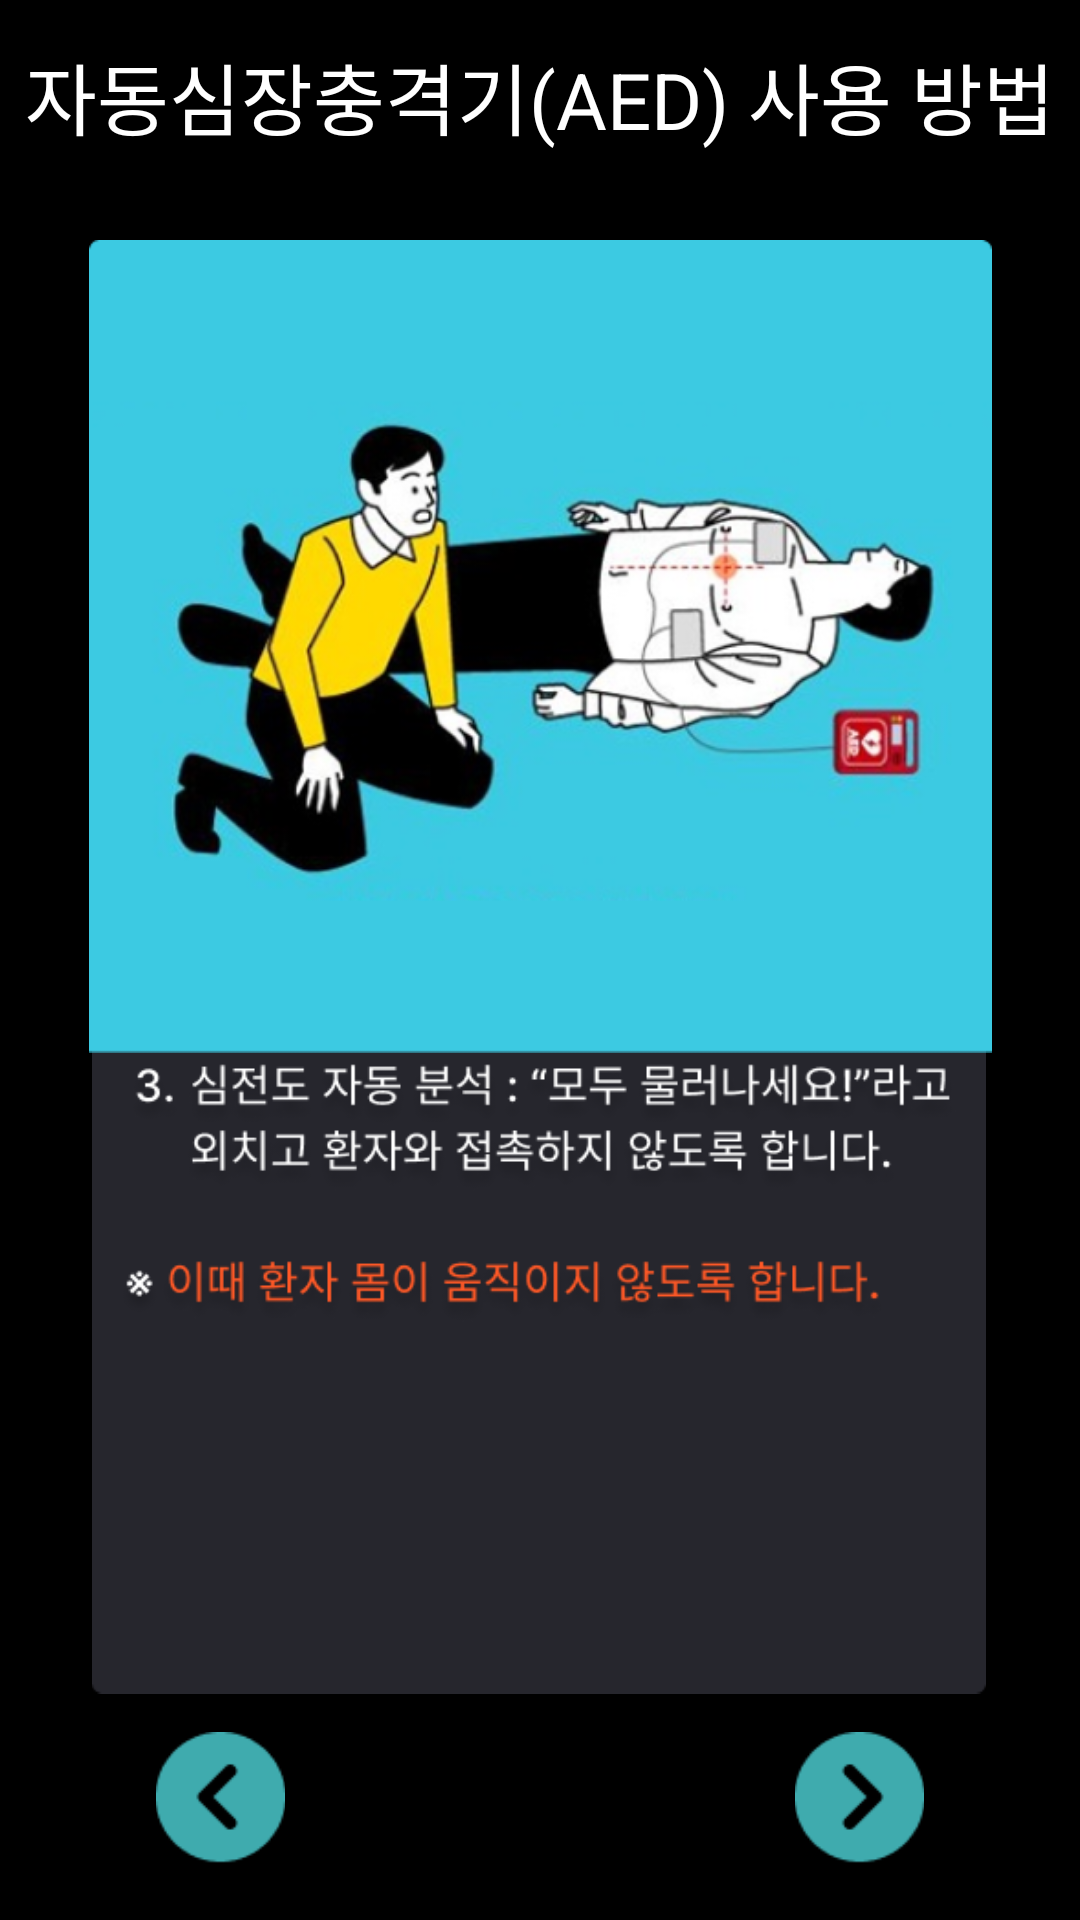

Icons on this 1080 × 1920 Android screen, each with its box as [x1=x1, y1=y1, x2=x2, y2=y2]:
edu next page: [x1=795, y1=1732, x2=924, y2=1863]
edu previous page: [x1=156, y1=1732, x2=285, y2=1863]
